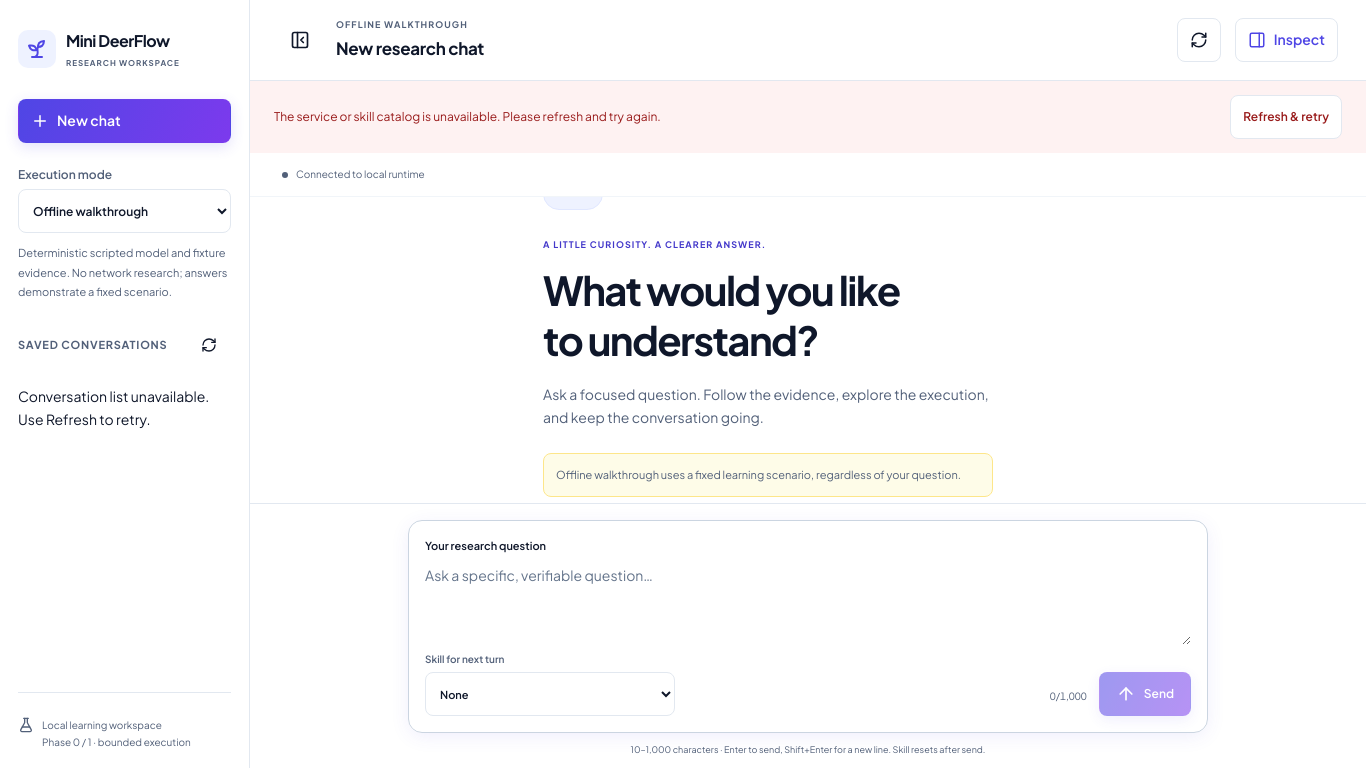
Test case: research workspace › retries a safe read error through Refresh
This screenshot has width=1366, height=768.
(page scrolled)
Expected: the text "Conversation list unavailable. Use Refresh to retry." is shown, [18,385,231,431]
Click the button "Refresh & retry".
click(1286, 117)  # box [1230,95,1342,139]
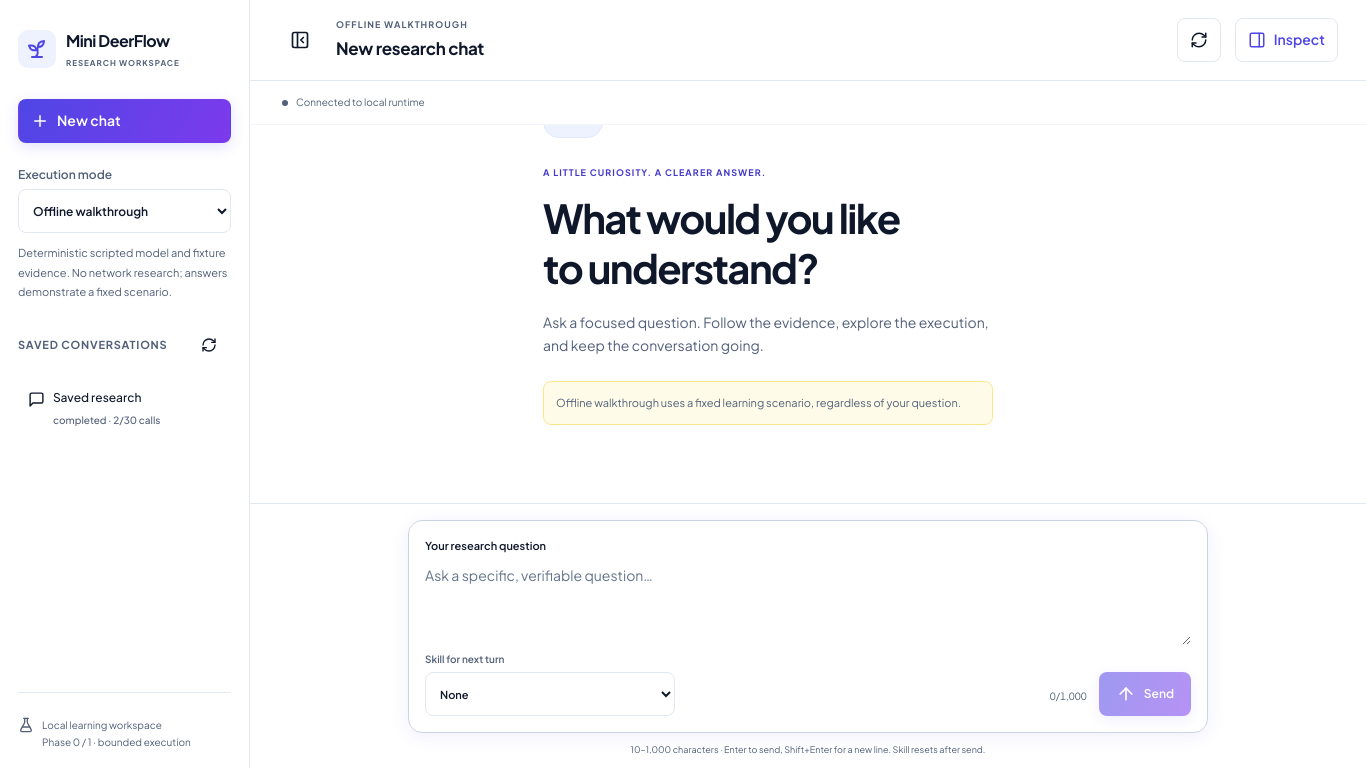
Result: the button "Saved research completed · 2/30 calls" is shown at [18,375,231,441]
Result: the message "Conversation list unavailable. Use Refresh to retry." is gone
